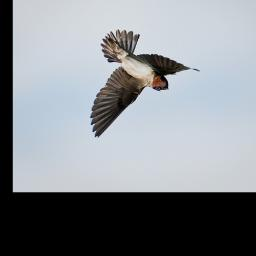Swallow: (89, 27, 201, 140)
